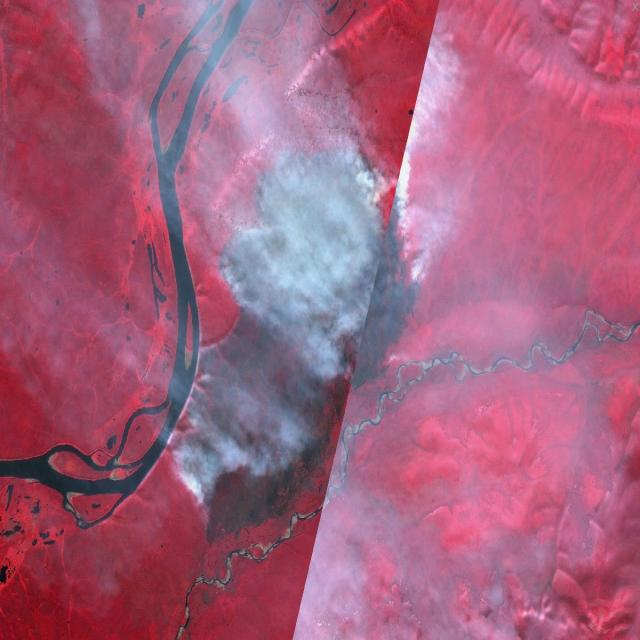fire: (212, 136, 430, 308), (168, 368, 218, 526)
